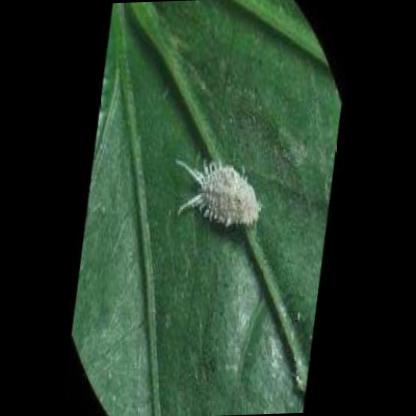mealy bug: (179, 162, 259, 224)
